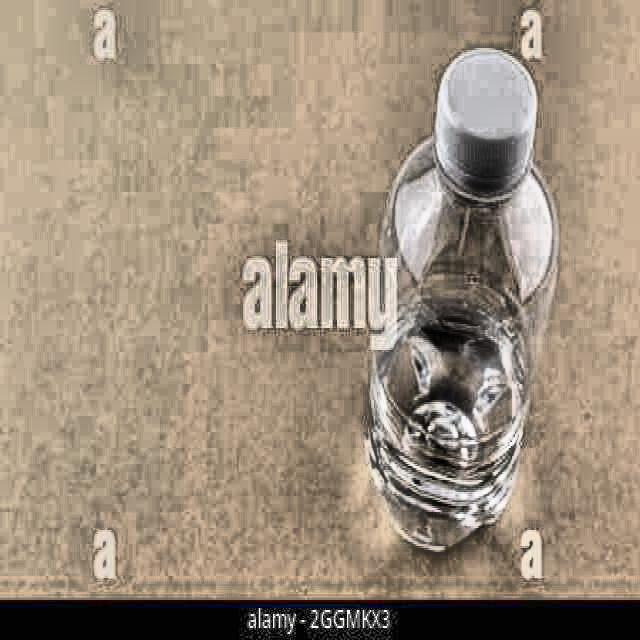plastic bottle: (368, 48, 557, 552)
